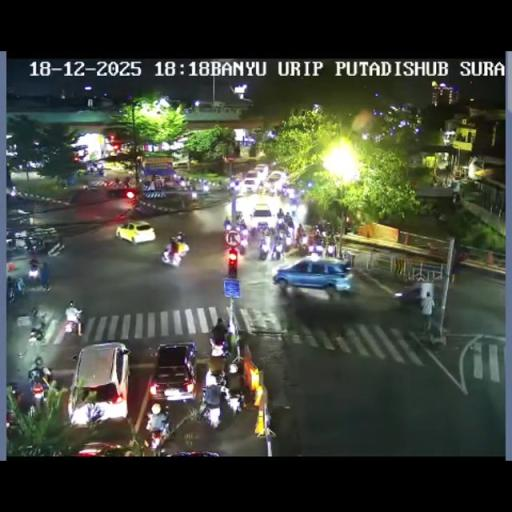Car: (68, 342, 130, 424), (272, 256, 354, 296), (148, 342, 198, 404), (394, 279, 432, 308), (116, 220, 155, 244), (72, 441, 128, 456), (250, 203, 274, 230), (107, 185, 136, 198), (266, 170, 286, 188), (241, 178, 258, 192), (254, 163, 268, 178)
Motorcycle: (227, 213, 319, 261), (28, 356, 53, 406), (145, 404, 170, 450), (198, 391, 224, 429), (5, 382, 25, 424), (202, 365, 226, 392), (206, 333, 230, 359), (62, 308, 82, 337), (225, 387, 245, 416), (170, 230, 188, 260), (232, 226, 249, 250), (28, 322, 46, 344), (27, 262, 41, 286), (270, 236, 284, 260), (258, 238, 270, 260), (186, 194, 202, 210), (310, 239, 324, 257), (280, 222, 293, 240), (51, 234, 64, 252), (6, 282, 16, 304), (29, 306, 41, 324), (161, 247, 173, 264), (297, 238, 308, 256), (24, 236, 36, 252), (326, 240, 336, 258), (430, 204, 441, 219), (16, 276, 25, 294), (288, 203, 298, 218), (257, 182, 267, 196), (228, 180, 238, 194), (234, 210, 244, 223), (286, 187, 296, 200), (6, 237, 16, 250), (314, 226, 323, 240), (223, 217, 231, 231), (184, 180, 194, 190), (86, 164, 96, 174), (267, 185, 276, 196), (143, 180, 151, 191), (178, 178, 186, 188), (262, 226, 270, 236), (277, 208, 284, 219), (202, 182, 209, 192), (124, 176, 130, 187), (114, 177, 120, 187), (98, 167, 103, 176)
